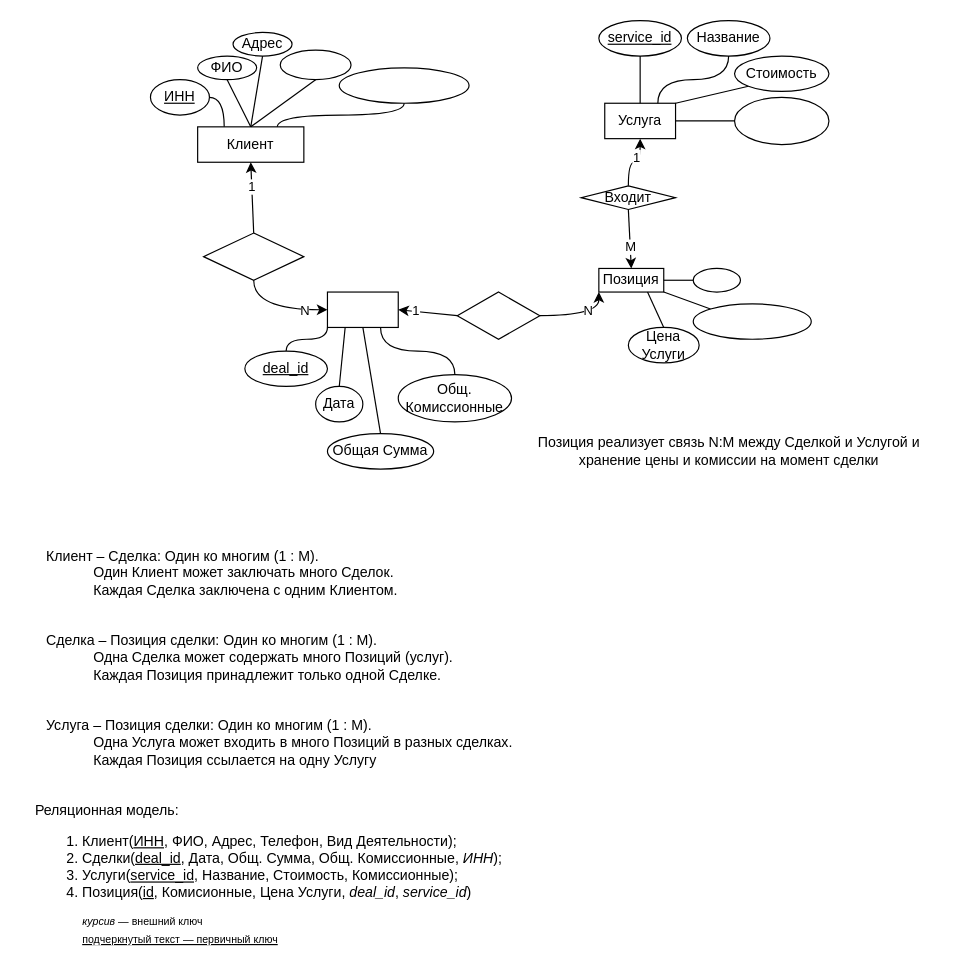
Some shapes in this 955 by 973 pixel diagram are drawn without their labels. The box of each missing label's shape, as (x1, y1, x2, y2) in pixels:
id: (692, 267, 740, 292)
Вид Деятельности: (338, 67, 469, 103)
Заключает: (202, 232, 304, 280)
Комиссионные: (692, 303, 811, 339)
Процент Комиссии: (733, 96, 829, 145)
Сделка: (326, 291, 398, 327)
Содержит: (456, 291, 540, 339)
Телефон: (279, 49, 351, 80)
